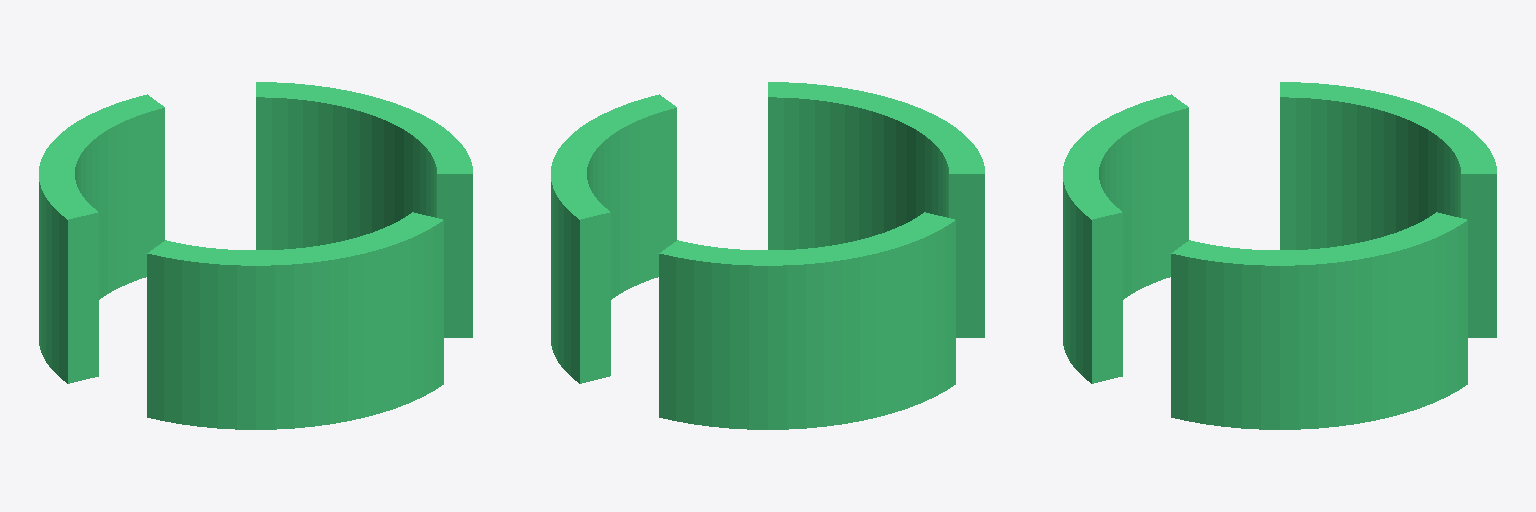
Rendered from areaIndicator.obj.
The picture shows the model from 3 angles: view 1: azimuth 30°, elevation 25°; view 2: azimuth 150°, elevation 25°; view 3: azimuth 270°, elevation 25°; orthographic projection.
Parts seen in each view (by area): view 1: Tube002, Tube003, Tube001; view 2: Tube001, Tube002, Tube003; view 3: Tube003, Tube001, Tube002.
Boxes of the visible parts, x1=… form: Tube002: x1=147, y1=212, x2=443, y2=429; Tube003: x1=256, y1=82, x2=472, y2=337; Tube001: x1=39, y1=94, x2=164, y2=383; Tube001: x1=659, y1=212, x2=955, y2=429; Tube002: x1=768, y1=82, x2=984, y2=337; Tube003: x1=551, y1=94, x2=676, y2=383; Tube003: x1=1171, y1=212, x2=1467, y2=429; Tube001: x1=1280, y1=82, x2=1496, y2=337; Tube002: x1=1063, y1=94, x2=1188, y2=383.
Size of the model in its own units: 12 by 5 by 12.